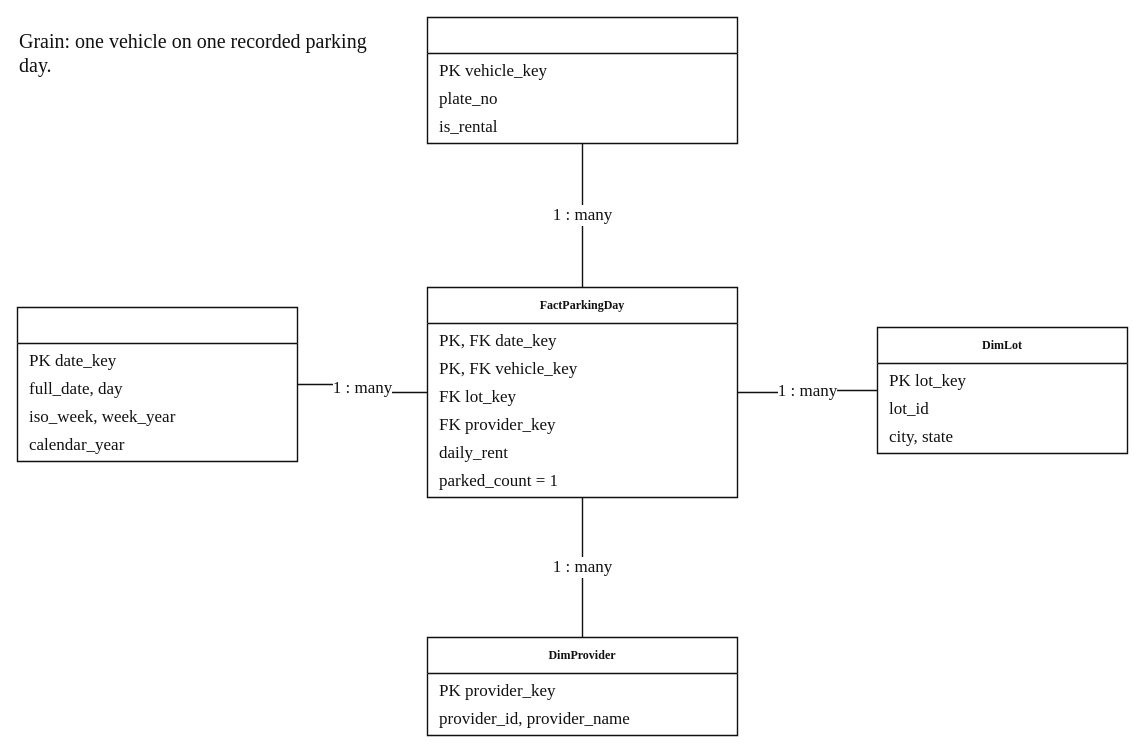
Some shapes in this 1146 by 754 pixel diagram are drawn without their labels. The box of each missing label's shape, as (x1, y1, x2, y2) in pixels:
DimDate: (16, 306, 298, 462)
DimVehicle: (426, 16, 738, 144)
